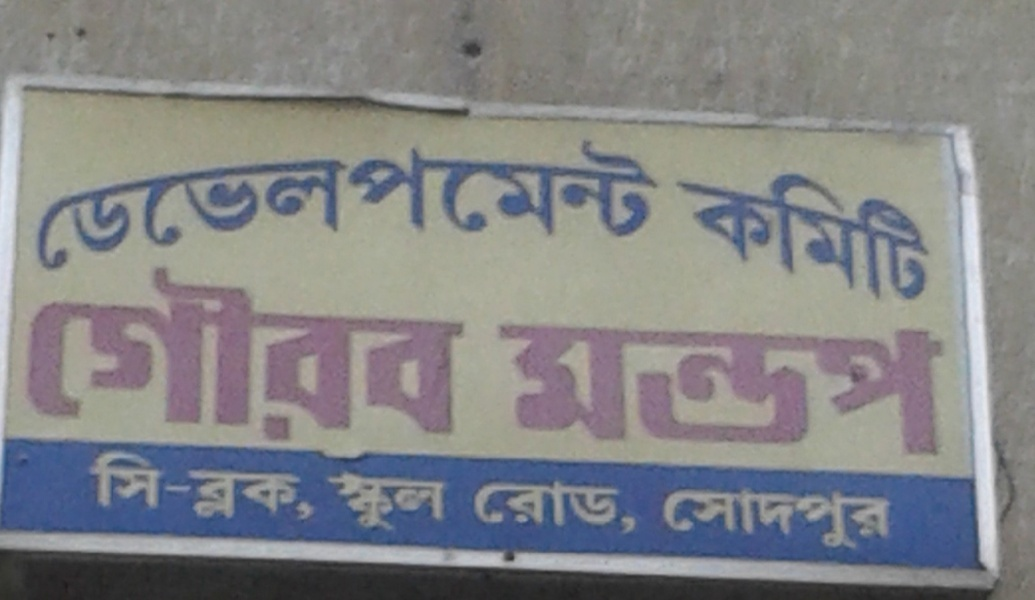text: (33, 255, 48, 453), (49, 255, 64, 453), (65, 255, 80, 453), (81, 255, 96, 453), (97, 255, 112, 453), (113, 255, 128, 453), (129, 255, 144, 453), (145, 255, 160, 453), (161, 255, 176, 453), (177, 255, 192, 453), (193, 255, 208, 453), (209, 255, 224, 453), (225, 255, 240, 453), (241, 255, 256, 453), (257, 255, 272, 453), (273, 255, 288, 453), (289, 255, 304, 453), (305, 255, 320, 453), (321, 255, 336, 453), (337, 255, 352, 453), (353, 255, 368, 453), (369, 255, 384, 453), (385, 255, 400, 453), (401, 255, 416, 453), (417, 255, 432, 453), (433, 255, 448, 453), (449, 255, 464, 453), (689, 155, 704, 314), (705, 155, 720, 314), (721, 155, 736, 314), (737, 155, 752, 314), (753, 155, 768, 314), (769, 155, 784, 314), (785, 155, 800, 314), (801, 155, 816, 314), (817, 155, 832, 314), (833, 155, 848, 314), (849, 155, 864, 314), (865, 155, 880, 314), (881, 155, 896, 314), (897, 155, 912, 314), (913, 155, 928, 314), (65, 126, 80, 273), (81, 126, 96, 273), (97, 126, 112, 273), (113, 126, 128, 273), (129, 126, 144, 273), (145, 126, 160, 273), (161, 126, 176, 273), (177, 126, 192, 273), (193, 126, 208, 273), (209, 126, 224, 273), (225, 126, 240, 273), (241, 126, 256, 273), (257, 126, 272, 273), (273, 126, 288, 273), (289, 126, 304, 273), (305, 126, 320, 273), (321, 126, 336, 273), (337, 126, 352, 273), (353, 126, 368, 273), (369, 126, 384, 273), (385, 126, 400, 273), (401, 126, 416, 273), (417, 126, 432, 273), (433, 126, 448, 273), (449, 126, 464, 273), (465, 126, 480, 273), (481, 126, 496, 273), (497, 126, 512, 273), (513, 126, 528, 273), (529, 126, 544, 273), (545, 126, 560, 273), (561, 126, 576, 273), (577, 126, 592, 273), (593, 126, 608, 273), (609, 126, 624, 273), (625, 126, 640, 273), (641, 126, 656, 273), (21, 255, 32, 453), (513, 320, 528, 464), (529, 320, 544, 464), (545, 320, 560, 464), (561, 320, 576, 464), (577, 320, 592, 464), (593, 320, 608, 464), (609, 320, 624, 464), (625, 320, 640, 464), (641, 320, 656, 464), (657, 320, 672, 464), (673, 320, 688, 464), (689, 320, 704, 464), (705, 320, 720, 464), (721, 320, 736, 464), (737, 320, 752, 464), (753, 320, 768, 464), (769, 320, 784, 464), (785, 320, 800, 464), (801, 320, 816, 464), (817, 320, 832, 464), (833, 320, 848, 464), (849, 320, 864, 464), (865, 320, 880, 464), (881, 320, 896, 464), (897, 320, 912, 464), (913, 320, 928, 464), (929, 320, 944, 464), (945, 320, 960, 464), (675, 155, 688, 314), (50, 126, 64, 273), (657, 126, 671, 273), (499, 320, 512, 464), (97, 447, 112, 526), (113, 447, 128, 526), (129, 447, 144, 526), (145, 447, 160, 526), (161, 447, 176, 526), (177, 447, 192, 526), (193, 447, 208, 526), (209, 447, 224, 526), (225, 447, 240, 526), (241, 447, 256, 526), (257, 447, 272, 526), (273, 447, 288, 526), (289, 447, 304, 526), (881, 484, 897, 555), (673, 484, 688, 555), (689, 484, 704, 555), (705, 484, 720, 555), (721, 484, 736, 555), (737, 484, 752, 555), (753, 484, 768, 555), (769, 484, 784, 555), (785, 484, 800, 555), (801, 484, 816, 555), (817, 484, 832, 555), (833, 484, 848, 555), (849, 484, 864, 555), (865, 484, 880, 555), (305, 447, 318, 526), (929, 155, 935, 314), (337, 472, 352, 535), (353, 472, 368, 535), (369, 472, 384, 535), (385, 472, 400, 535), (401, 472, 416, 535), (417, 472, 432, 535), (433, 472, 448, 535), (481, 479, 496, 537), (497, 479, 512, 537), (513, 479, 528, 537), (529, 479, 544, 537), (545, 479, 560, 537), (561, 479, 576, 537), (577, 479, 592, 537), (593, 479, 608, 537), (609, 479, 624, 537), (961, 320, 967, 464), (625, 479, 639, 537), (662, 484, 672, 555), (327, 472, 336, 535), (474, 479, 480, 537), (93, 447, 96, 526), (465, 255, 466, 453)
